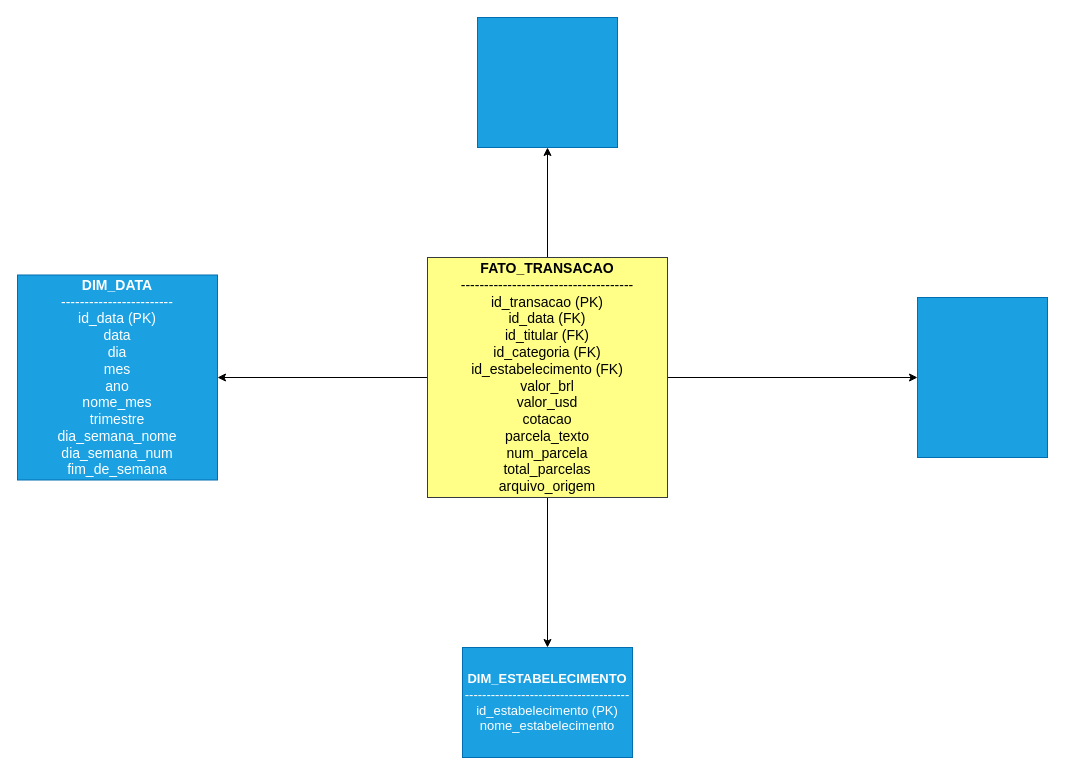
The diagram is 1065 pixels wide and 775 high, and some of its shapes have lost their labels. The shapes that lost their labels are listed below. From the top down, each one's box as (x1, y1, x2, y2) in pixels, then its label:
(476, 16, 618, 148): DIM_TITULAR ------------------------ id_titular (PK) nome_titular final_cartao
(916, 296, 1048, 458): DIM_CATEGORIA ------------------------ id_categoria (PK) nome_categoria
